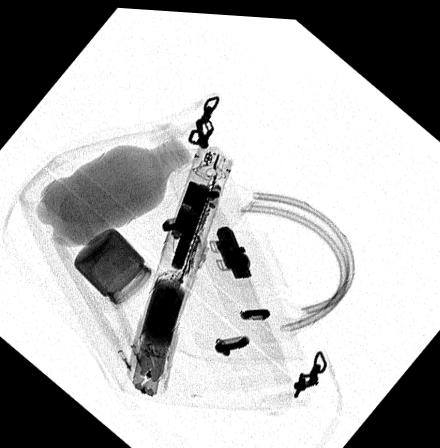Baton: (126, 143, 234, 394)
